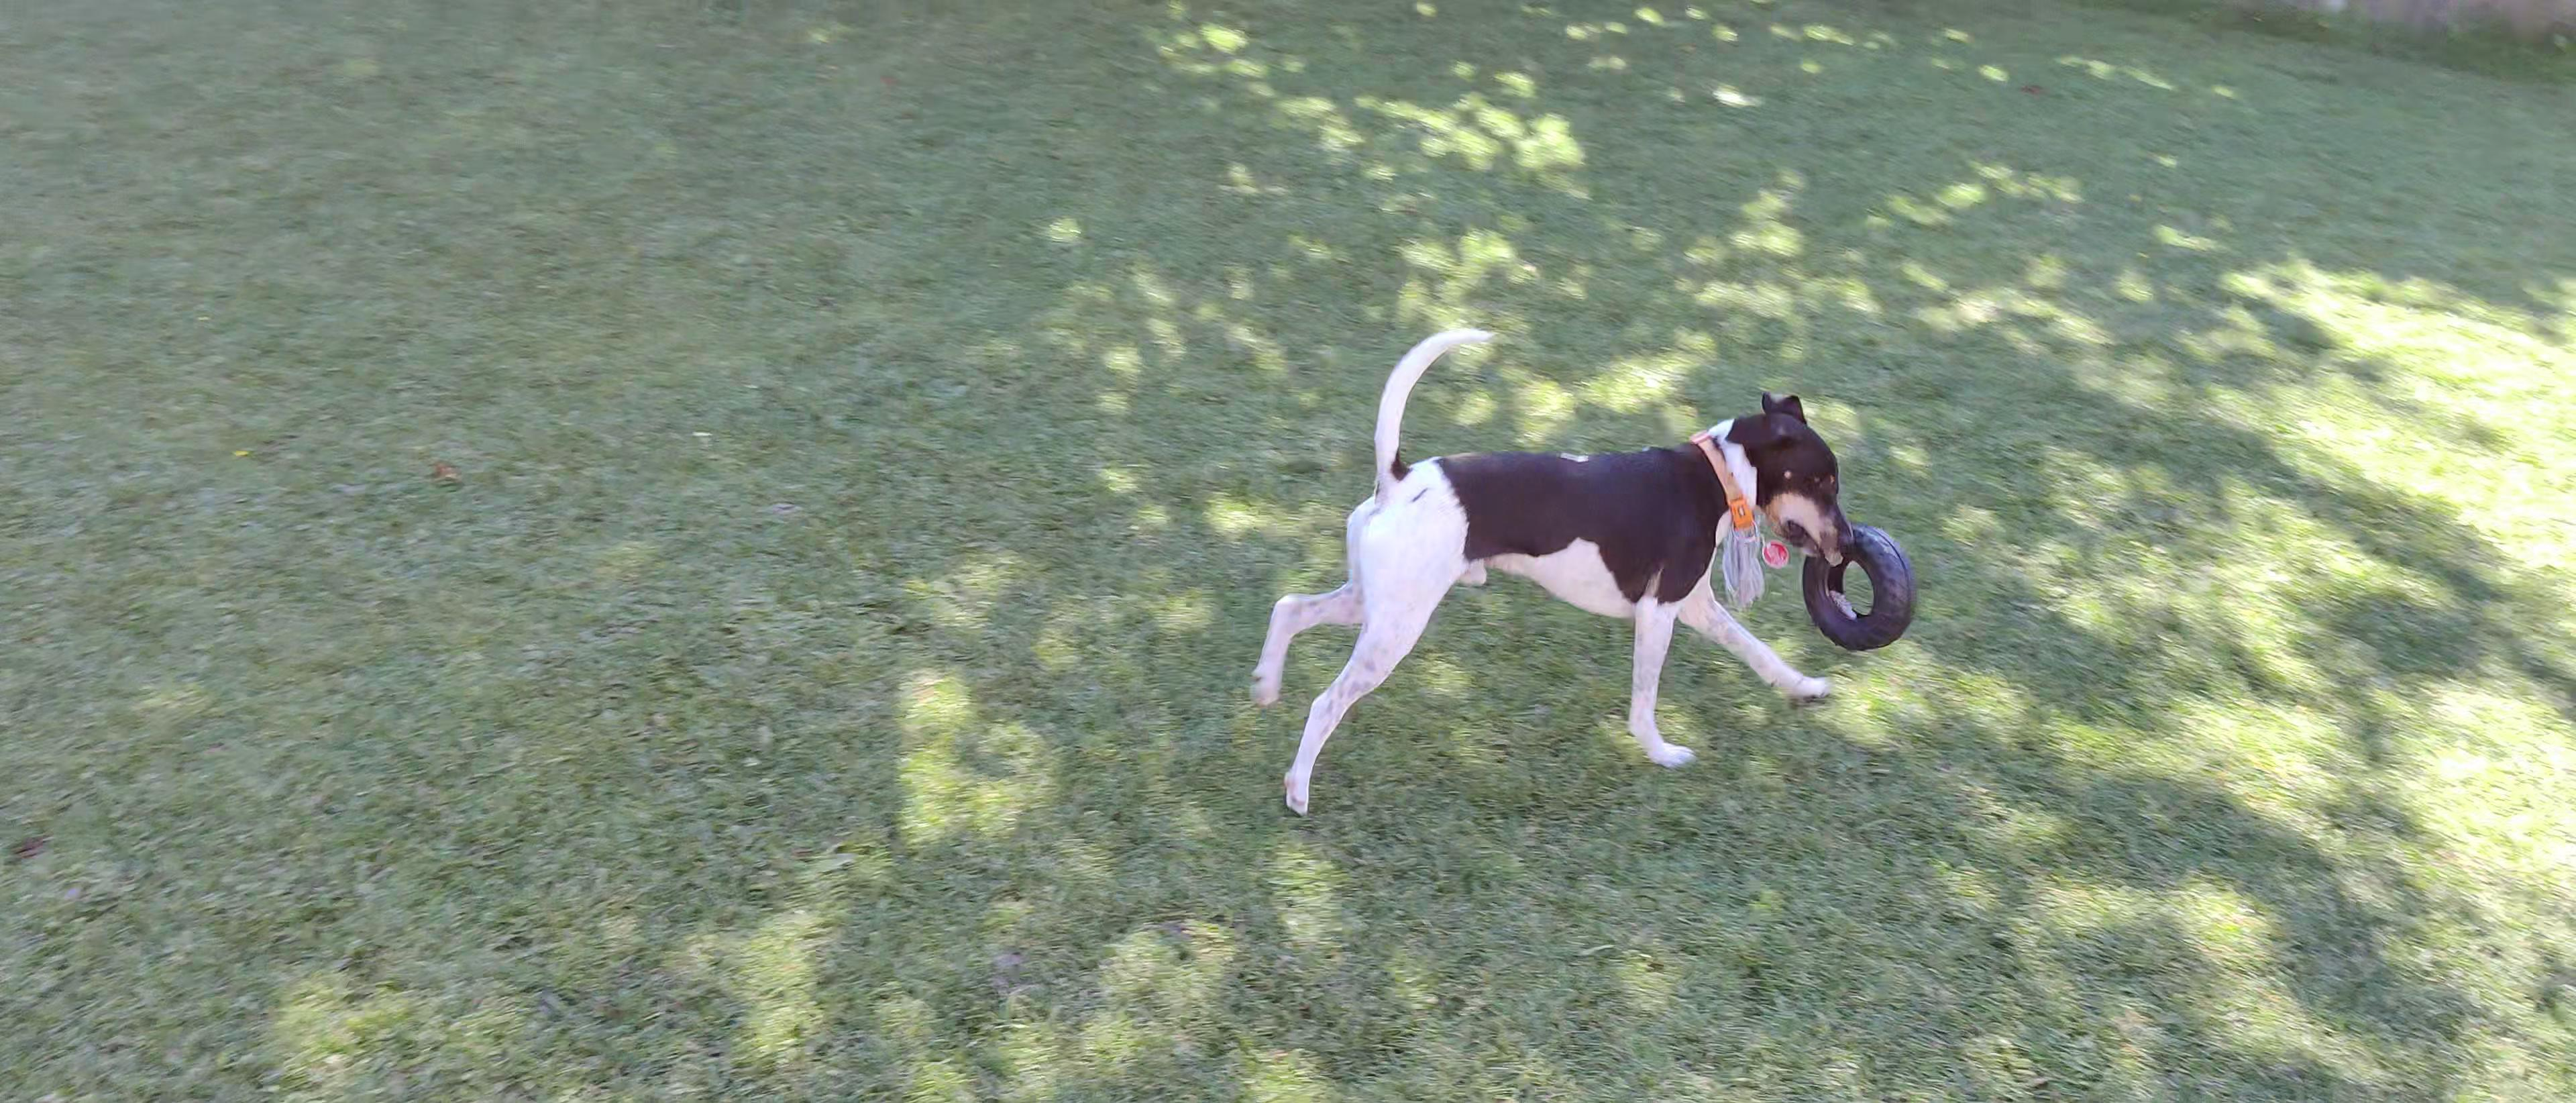Dog: (1242, 322, 1858, 825)
